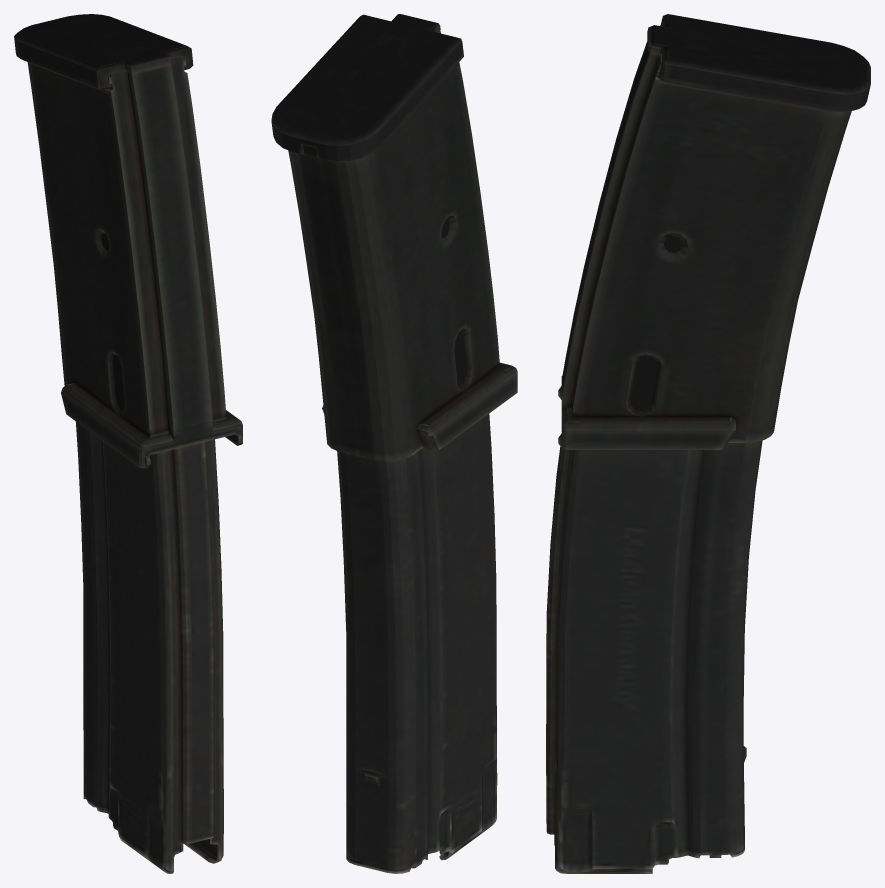
3 views of the same model, side by side, from view 1: azimuth 30°, elevation 25°; view 2: azimuth 150°, elevation 25°; view 3: azimuth 270°, elevation 25° (orthographic). The views are drawn at different scales.
Visible parts, largest first — view 1: TW_5ba26586d4351e44f824b340_PZ_Import; view 2: TW_5ba26586d4351e44f824b340_PZ_Import; view 3: TW_5ba26586d4351e44f824b340_PZ_Import.
Boxes of the visible parts, bbox=[...] form: TW_5ba26586d4351e44f824b340_PZ_Import: bbox=[14, 14, 242, 873]; TW_5ba26586d4351e44f824b340_PZ_Import: bbox=[271, 14, 517, 873]; TW_5ba26586d4351e44f824b340_PZ_Import: bbox=[546, 14, 870, 873].
Size of the model in its own units: 0.0161 by 0.0412 by 0.1158.
Materials: 1 (1 with a texture image).
